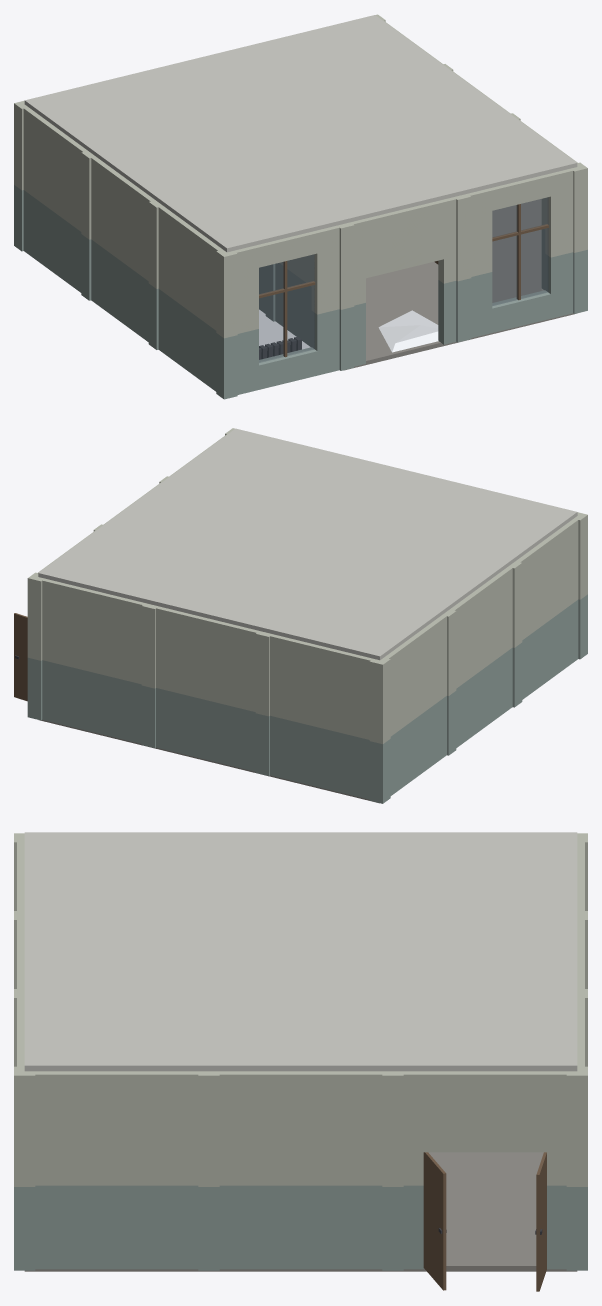
File: INT_Lodge.glb
3 renders of one model, top to bottom at view 1: azimuth 30°, elevation 25°; view 2: azimuth 150°, elevation 25°; view 3: azimuth 270°, elevation 25°, orthographic. The views are drawn at different scales.
Parts seen in each view (by area): view 1: INT_Lodge_Wall_Window_01, INT_Lodge_Wall_Window_02, INT_Lodge_Wall_DoorWide_01, INT_Lodge_Wall_Solid_04, INT_Lodge_Wall_Solid_06, INT_Lodge_Wall_Solid_05, INT_Lodge_Ceiling_Plain_01, INT_Lodge_Ceiling_Plain_05, INT_Lodge_Ceiling_Plain_02, INT_Lodge_Ceiling_Plain_09, INT_Lodge_Ceiling_Plain_08, INT_Lodge_Ceiling_Plain_04 (+19 smaller); view 2: INT_Lodge_Wall_Solid_02, INT_Lodge_Wall_Solid_03, INT_Lodge_Wall_Solid_01, INT_Lodge_Wall_Solid_04, INT_Lodge_Wall_Solid_05, INT_Lodge_Wall_Solid_06, INT_Lodge_Ceiling_Plain_09, INT_Lodge_Ceiling_Plain_04, INT_Lodge_Ceiling_Plain_07, INT_Lodge_Ceiling_Plain_01, INT_Lodge_Ceiling_Plain_08, INT_Lodge_Ceiling_Plain_03 (+11 smaller); view 3: INT_Lodge_Wall_Solid_07, INT_Lodge_Wall_Solid_08, INT_Lodge_Wall_DoorWide_02, INT_Lodge_Ceiling_Plain_05, INT_Lodge_Ceiling_Plain_07, INT_Lodge_Ceiling_Plain_06, INT_Lodge_Ceiling_Plain_01, INT_Lodge_Ceiling_Plain_02, INT_Lodge_Ceiling_Plain_04, INT_Lodge_Ceiling_Plain_09, INT_Lodge_Ceiling_Plain_03, INT_Lodge_Ceiling_Plain_08 (+8 smaller).
Boxes of the visible parts, x1,y1,x2,y2 form: INT_Lodge_Wall_Window_01: (234, 225, 341, 394); INT_Lodge_Wall_Window_02: (467, 168, 574, 337); INT_Lodge_Wall_DoorWide_01: (349, 197, 456, 366); INT_Lodge_Wall_Solid_04: (158, 205, 222, 391); INT_Lodge_Wall_Solid_06: (23, 107, 87, 292); INT_Lodge_Wall_Solid_05: (90, 156, 155, 341); INT_Lodge_Ceiling_Plain_01: (159, 170, 343, 252); INT_Lodge_Ceiling_Plain_05: (393, 113, 577, 195); INT_Lodge_Ceiling_Plain_02: (276, 142, 460, 223); INT_Lodge_Ceiling_Plain_09: (24, 72, 208, 153); INT_Lodge_Ceiling_Plain_08: (92, 121, 275, 202); INT_Lodge_Ceiling_Plain_04: (142, 43, 325, 120); INT_Lodge_Wall_Solid_02: (154, 606, 259, 771); INT_Lodge_Wall_Solid_03: (42, 578, 146, 743); INT_Lodge_Wall_Solid_01: (270, 634, 374, 799); INT_Lodge_Wall_Solid_04: (515, 518, 578, 699); INT_Lodge_Wall_Solid_05: (449, 567, 512, 747); INT_Lodge_Wall_Solid_06: (384, 615, 446, 795); INT_Lodge_Ceiling_Plain_09: (266, 580, 445, 660); INT_Lodge_Ceiling_Plain_04: (152, 552, 331, 632); INT_Lodge_Ceiling_Plain_07: (38, 525, 217, 604); INT_Lodge_Ceiling_Plain_01: (398, 484, 577, 563); INT_Lodge_Ceiling_Plain_08: (332, 532, 511, 611); INT_Lodge_Ceiling_Plain_03: (218, 504, 397, 580); INT_Lodge_Wall_Solid_07: (32, 1071, 201, 1269); INT_Lodge_Wall_Solid_08: (216, 1071, 385, 1269); INT_Lodge_Wall_DoorWide_02: (400, 1071, 569, 1269); INT_Lodge_Ceiling_Plain_05: (24, 988, 208, 1071); INT_Lodge_Ceiling_Plain_07: (393, 988, 577, 1071); INT_Lodge_Ceiling_Plain_06: (209, 988, 392, 1071); INT_Lodge_Ceiling_Plain_01: (24, 832, 208, 909); INT_Lodge_Ceiling_Plain_02: (24, 910, 208, 987); INT_Lodge_Ceiling_Plain_04: (393, 910, 577, 987); INT_Lodge_Ceiling_Plain_09: (393, 832, 577, 909); INT_Lodge_Ceiling_Plain_03: (209, 910, 392, 987); INT_Lodge_Ceiling_Plain_08: (209, 832, 392, 909).
Bounding box in the file's own units: 10.17 × 3.7 × 9.35.
